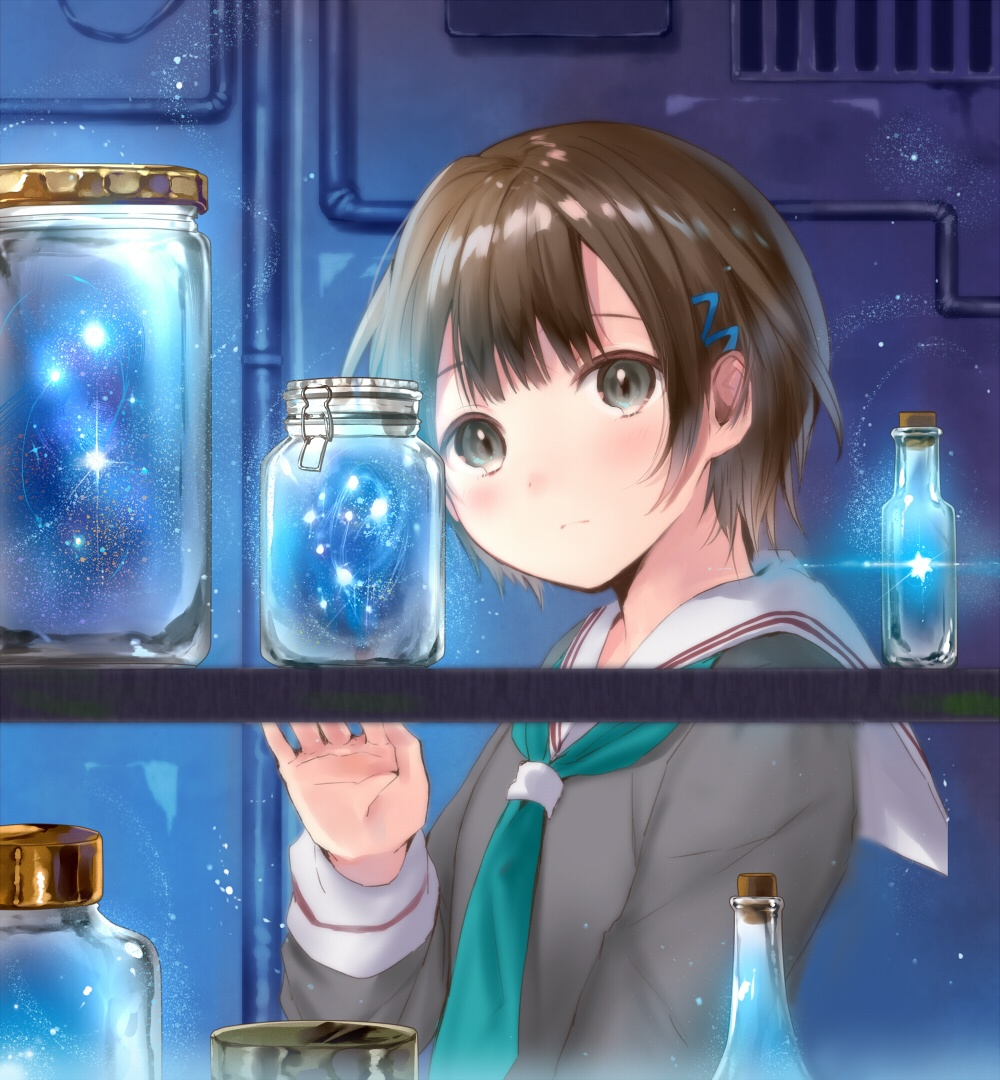纸片人正脸: (349, 113, 821, 614)
